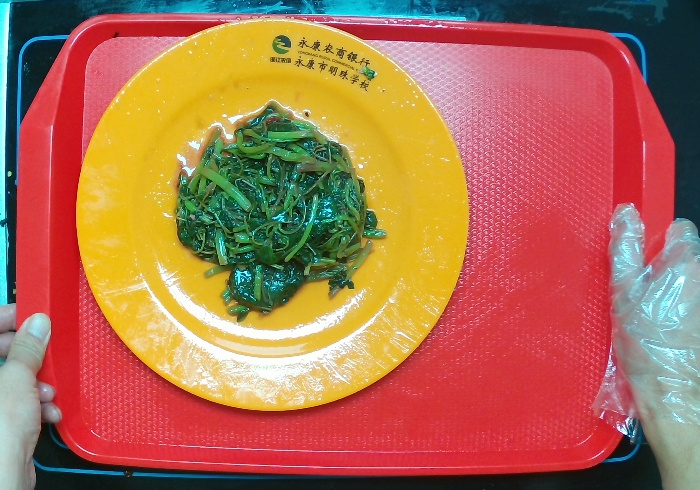YKMZ-Ju_Se_Mian_Pan: (76, 18, 472, 411)
